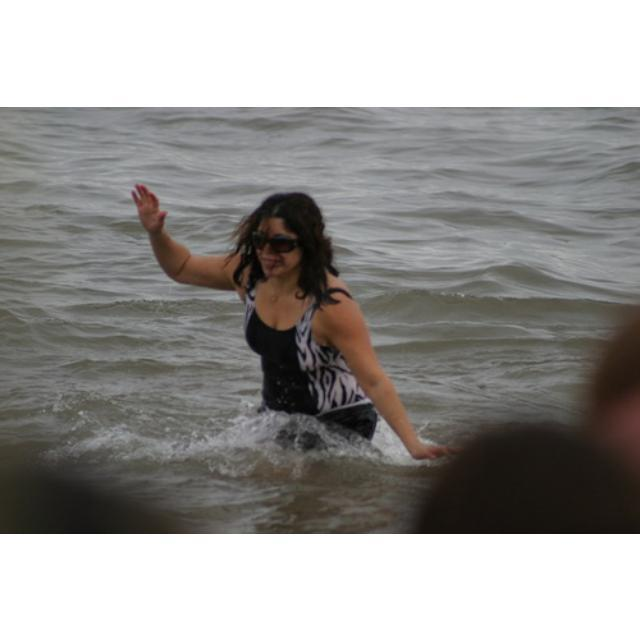human: (128, 171, 460, 461)
